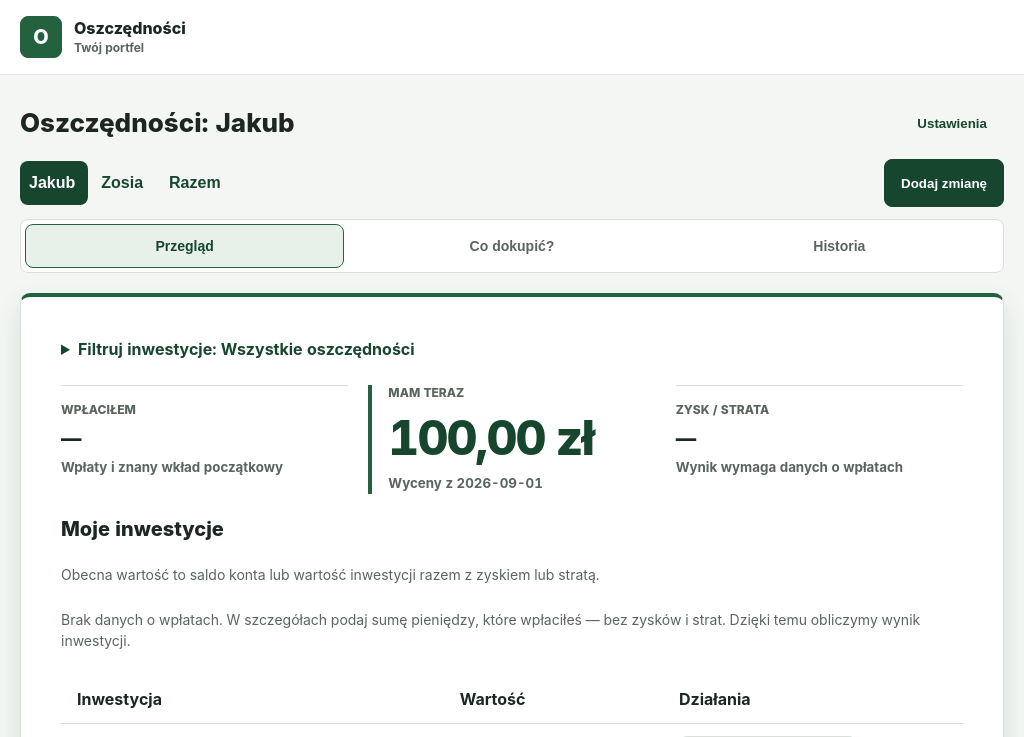
Test: Savings workspace › displays the actual draft owner and clears fields when selecting another
Click the button "Dodaj zmianę" at (944, 183), box x1=884 y1=159 x2=1004 y2=207
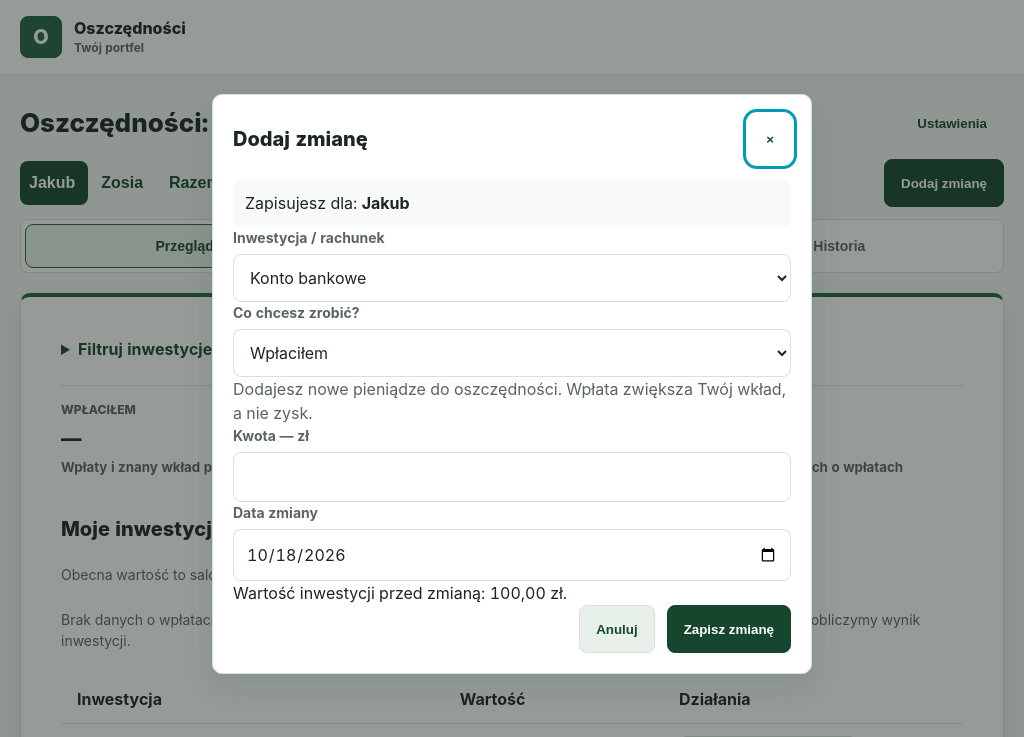
Now the text "Zapisujesz dla:" shows "Jakub", box x1=362 y1=193 x2=410 y2=213
Click the button "Anuluj" at (617, 629), box x1=579 y1=605 x2=655 y2=653
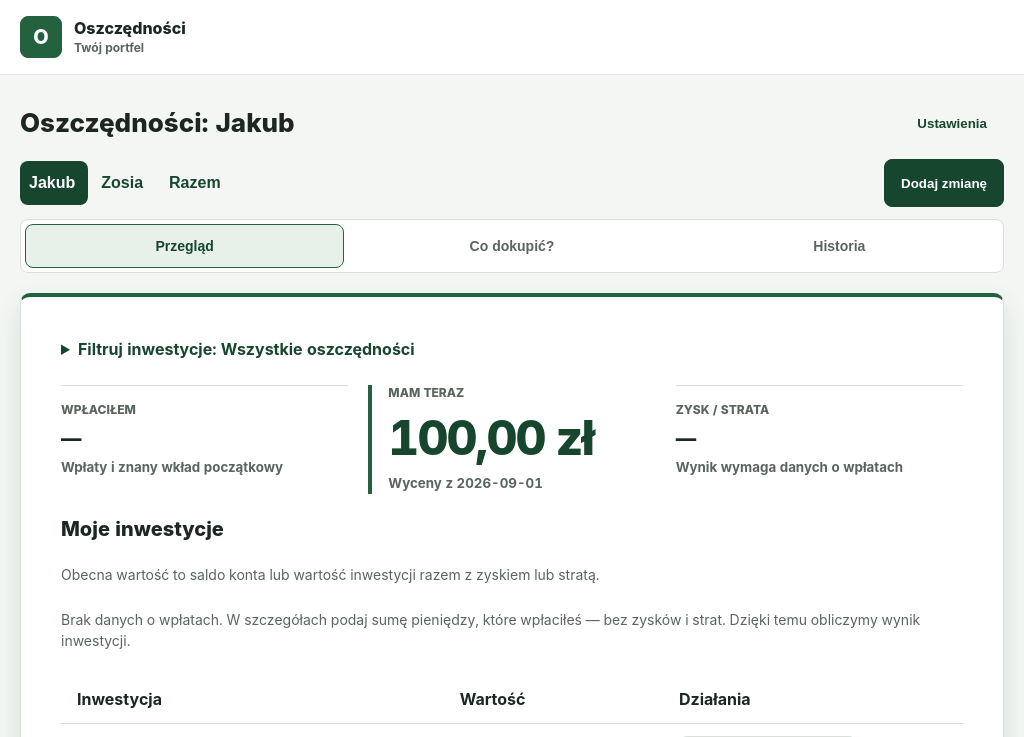
Click the button "Razem" at (197, 183), box x1=160 y1=161 x2=234 y2=205
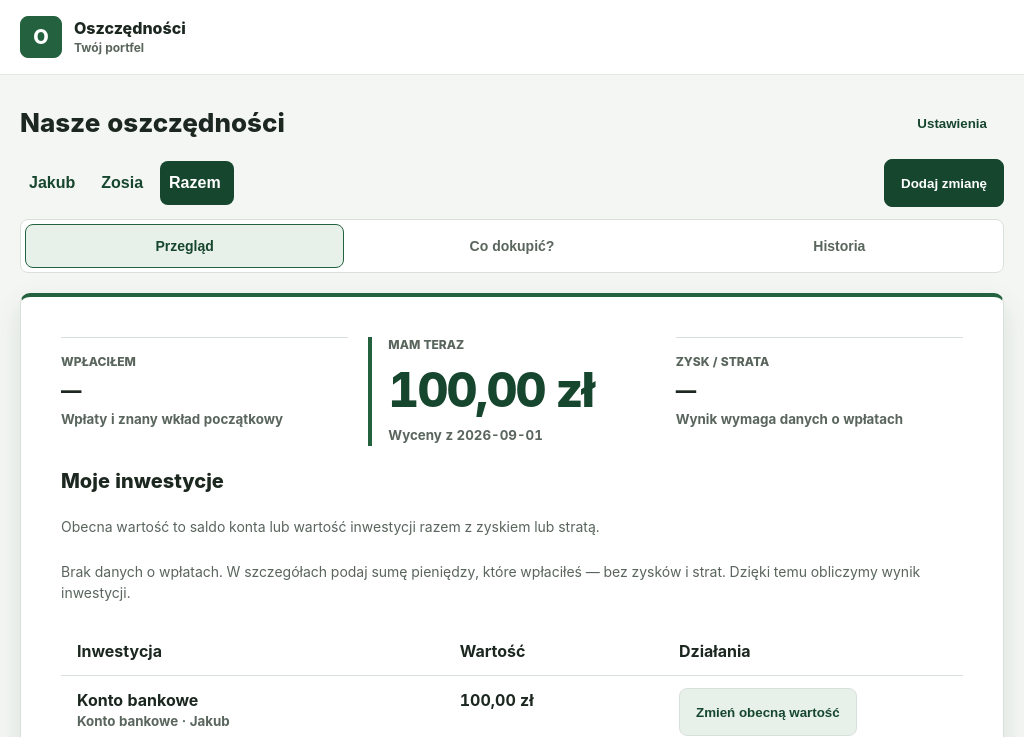
Click the button "Dodaj zmianę" at (944, 183), box x1=884 y1=159 x2=1004 y2=207
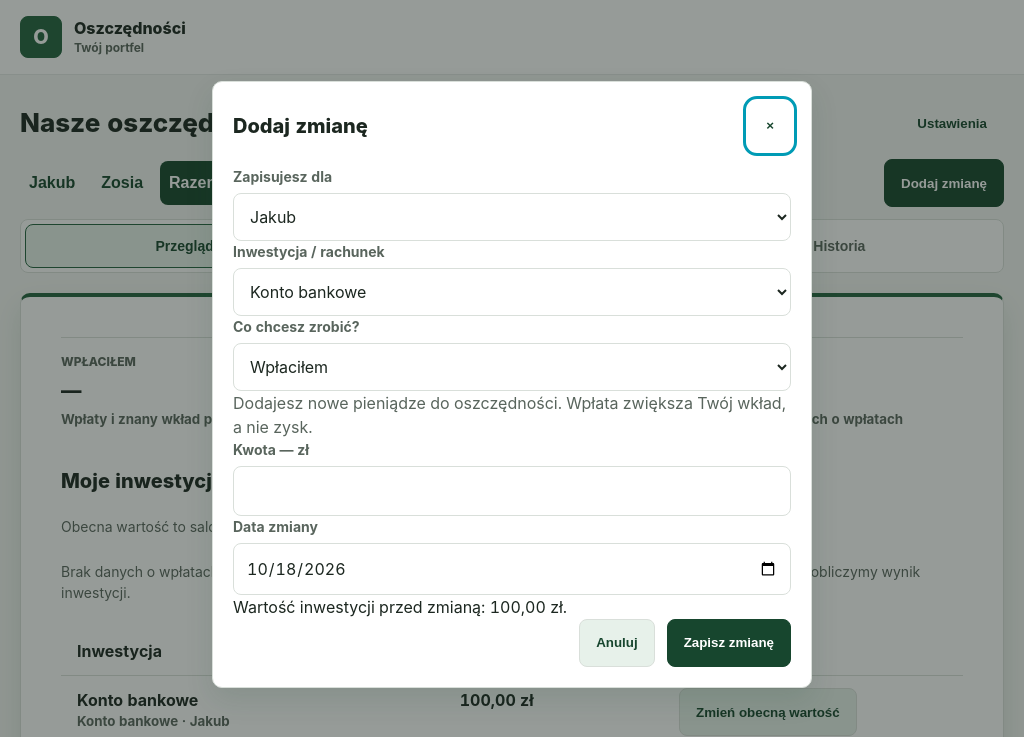
Type "100" into the number field labelled "Kwota — zł" at (512, 490), box x1=233 y1=466 x2=791 y2=516
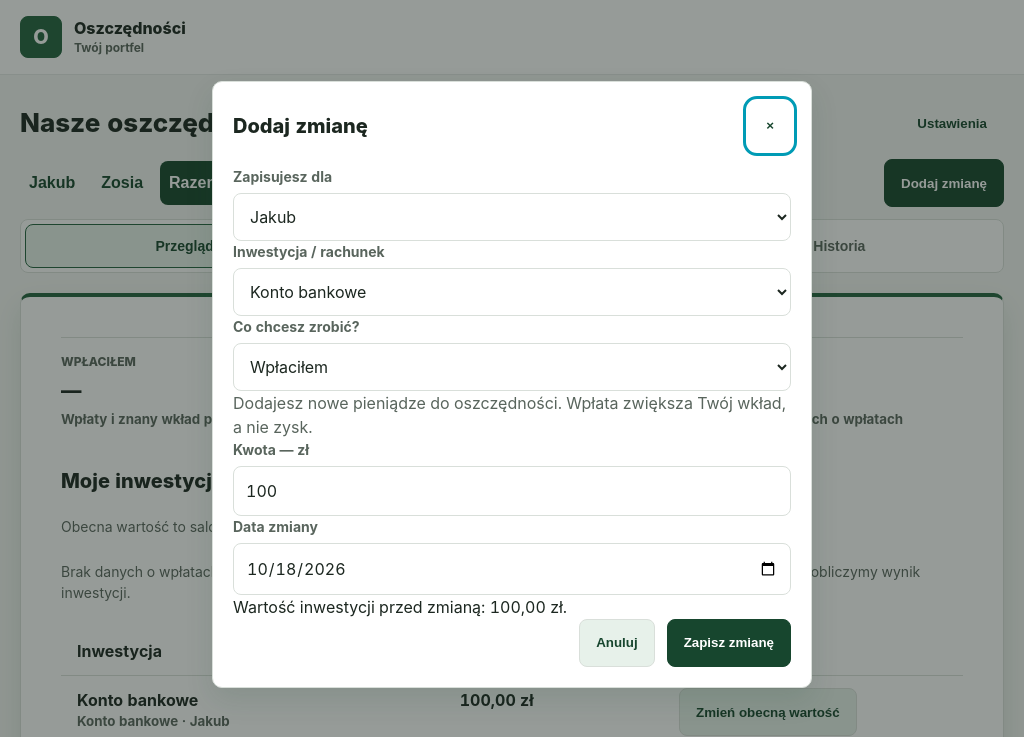
Select "Zosia" in the dropdown labelled "Zapisujesz dla" at (512, 216), box x1=233 y1=192 x2=791 y2=240
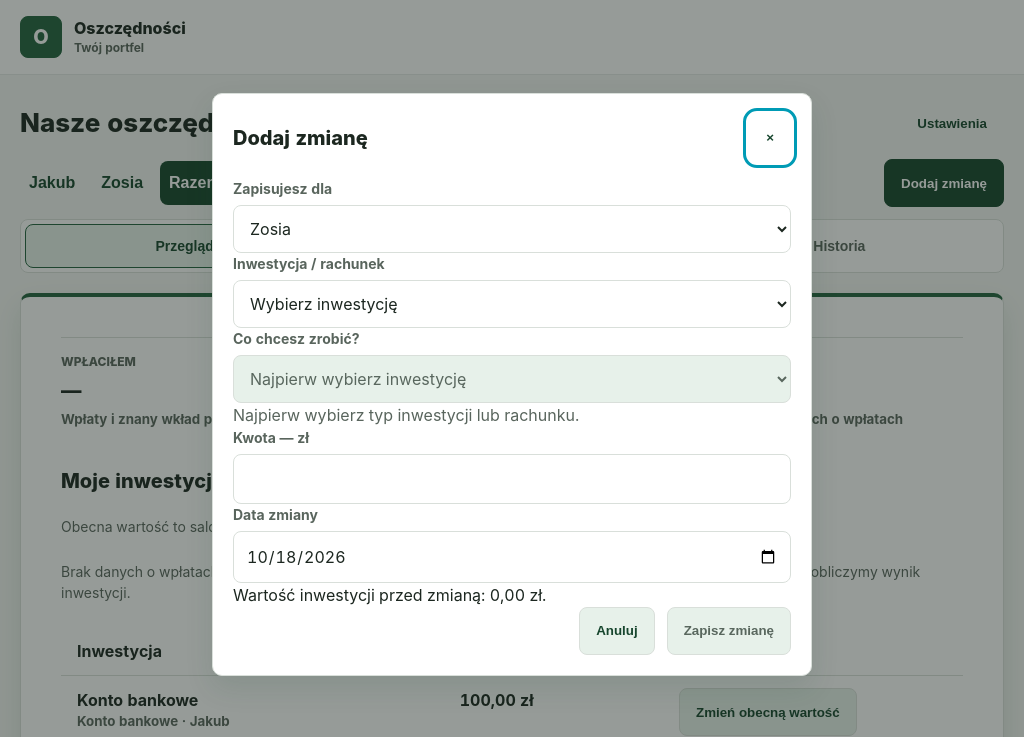
Now the number field labelled "Kwota — zł" is not empty, box x1=233 y1=454 x2=791 y2=504
Now the dropdown labelled "Inwestycja / rachunek" shows "Wybierz inwestycję", box x1=233 y1=280 x2=791 y2=328
Now the button "Zapisz zmianę" is disabled, box x1=667 y1=606 x2=791 y2=654
